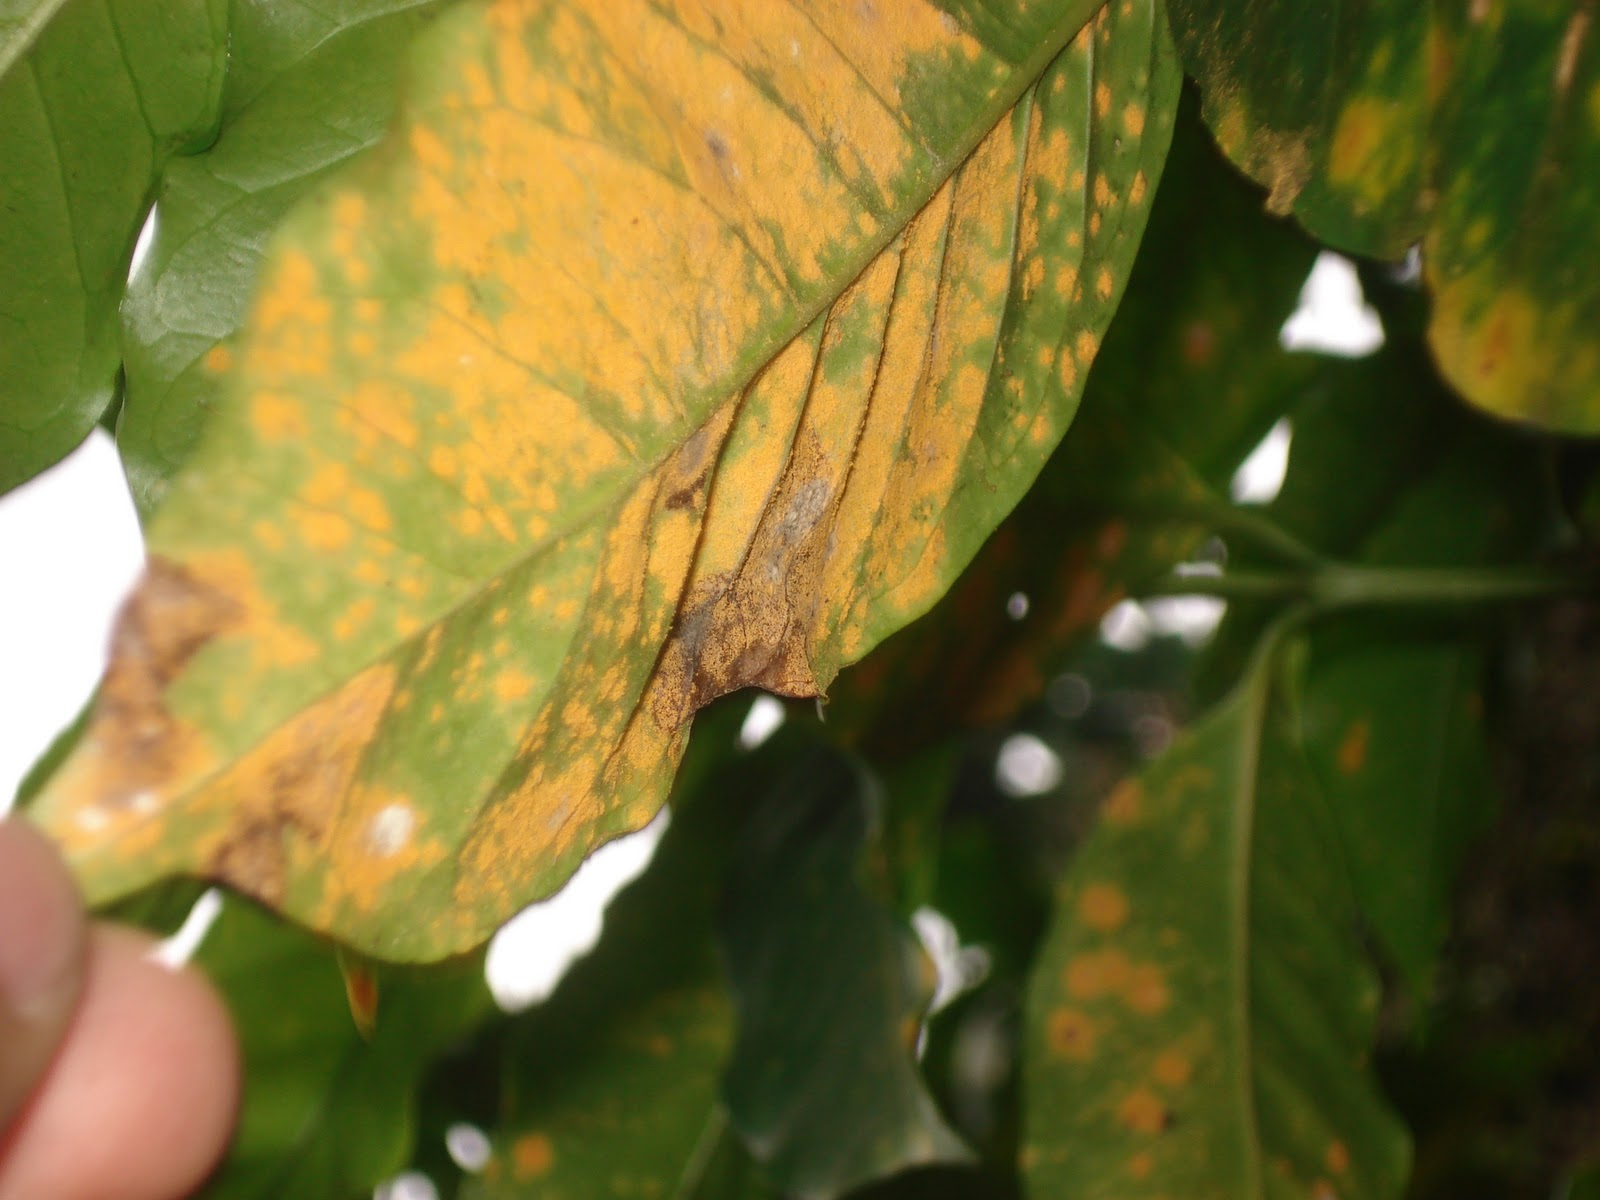roya: (52, 18, 1167, 920)
